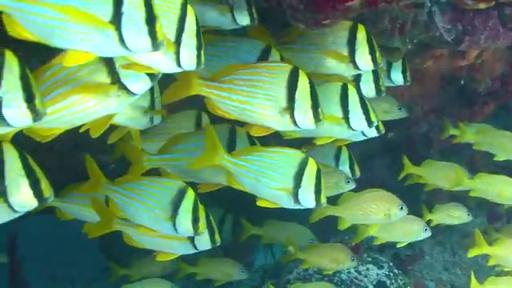Fish: (163, 62, 324, 135), (0, 0, 167, 66), (192, 127, 326, 208), (24, 59, 152, 141), (82, 156, 209, 236), (83, 199, 219, 260), (249, 21, 382, 76), (119, 130, 226, 191), (122, 0, 203, 73), (281, 82, 380, 139), (0, 142, 54, 223), (310, 188, 407, 232), (199, 34, 283, 78), (0, 48, 46, 127), (108, 85, 166, 147), (316, 82, 379, 131), (140, 110, 210, 153), (442, 121, 511, 160), (280, 121, 384, 145), (399, 156, 471, 190), (353, 216, 431, 247), (45, 183, 106, 222), (308, 69, 386, 99), (285, 244, 357, 274), (241, 220, 317, 248), (304, 143, 360, 179), (189, 0, 258, 29), (177, 258, 248, 286), (109, 256, 177, 281), (468, 229, 511, 267), (465, 173, 511, 204), (441, 120, 498, 143), (208, 207, 242, 245), (318, 164, 356, 196), (423, 203, 472, 226), (368, 95, 408, 120), (381, 58, 411, 87), (471, 272, 511, 287), (122, 278, 178, 287), (486, 224, 511, 242), (290, 282, 335, 287)
